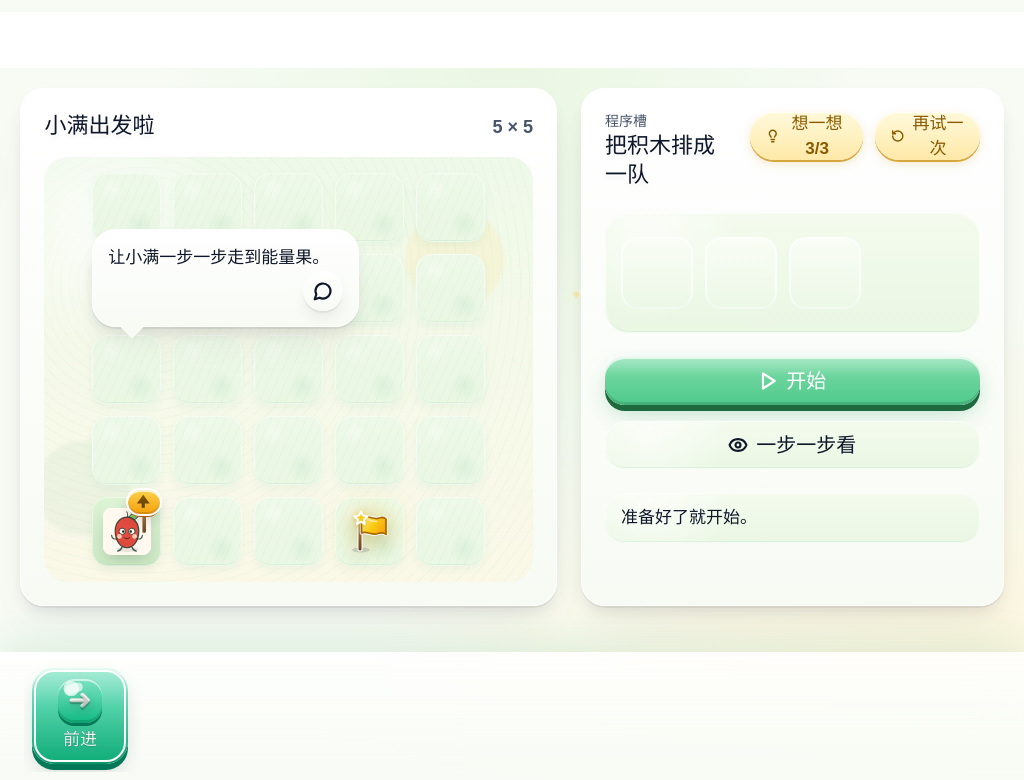
ProgrammingIslandPage › appends a drawer block on click and keeps the program slot accessible
What coordinates should you click on to do the following:
click the button with aria-label "前进积木"
I would click on:
 (80, 716)
Its box is x1=24 y1=660 x2=136 y2=772.
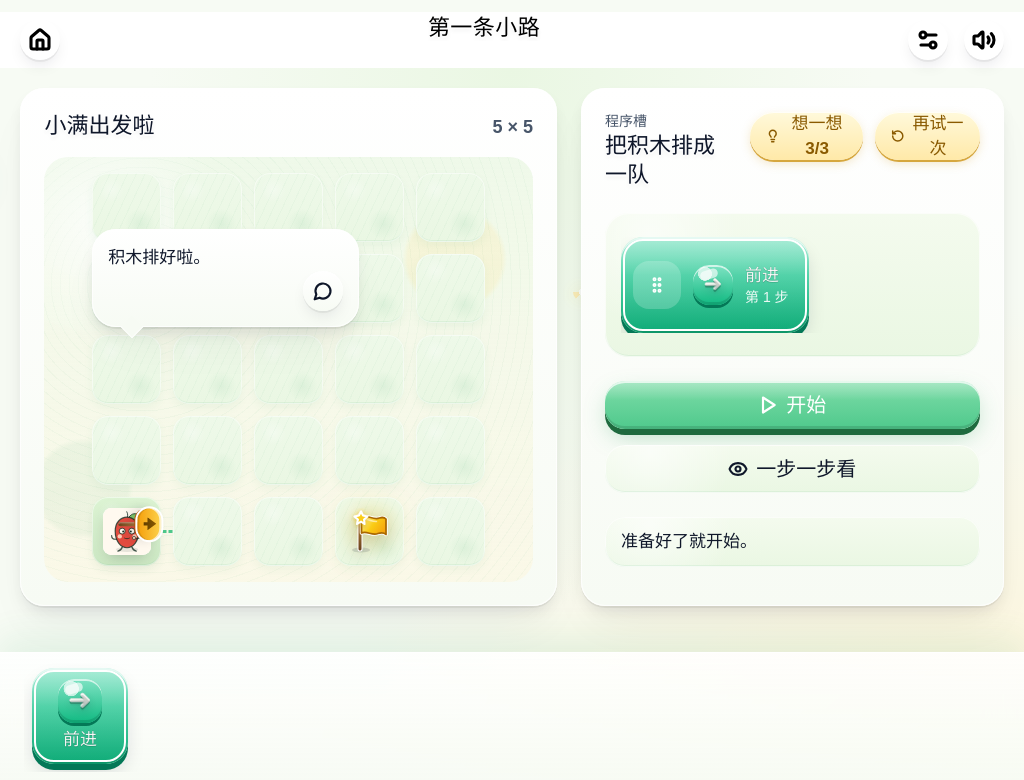
Now the list item is shown, box x1=621 y1=237 x2=809 y2=333
Now the button with aria-label "第 1 块，前进" is shown, box x1=693 y1=263 x2=797 y2=308
